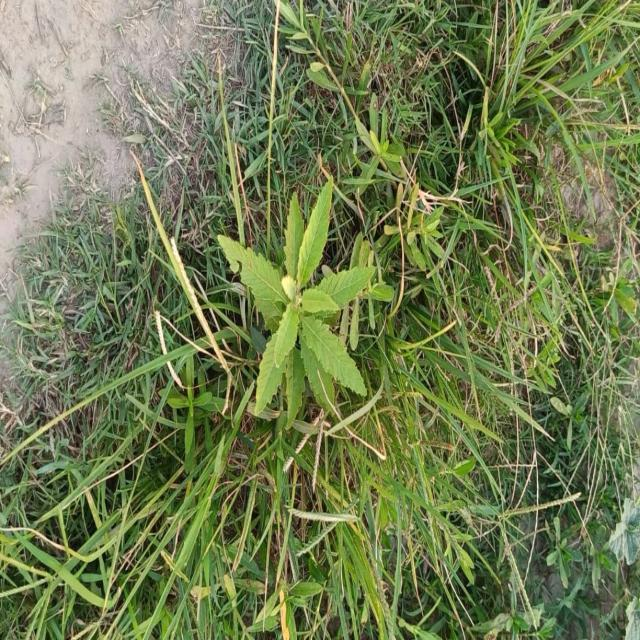weed: (218, 176, 374, 421)
